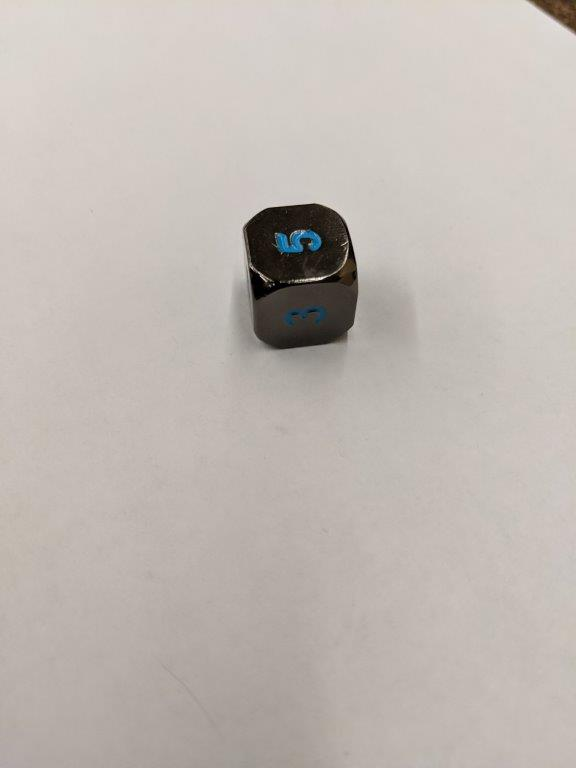d6-5: (240, 202, 362, 353)
